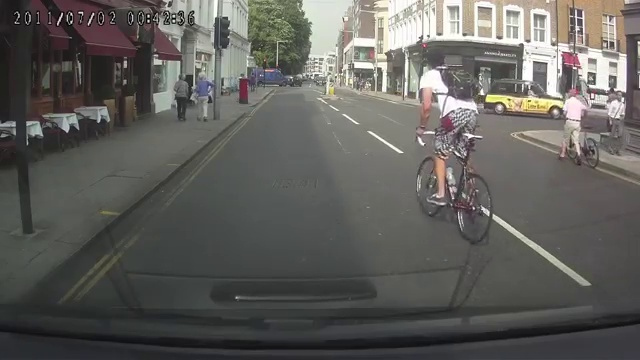cyclist_back: (411, 43, 493, 245), (556, 84, 602, 172)
